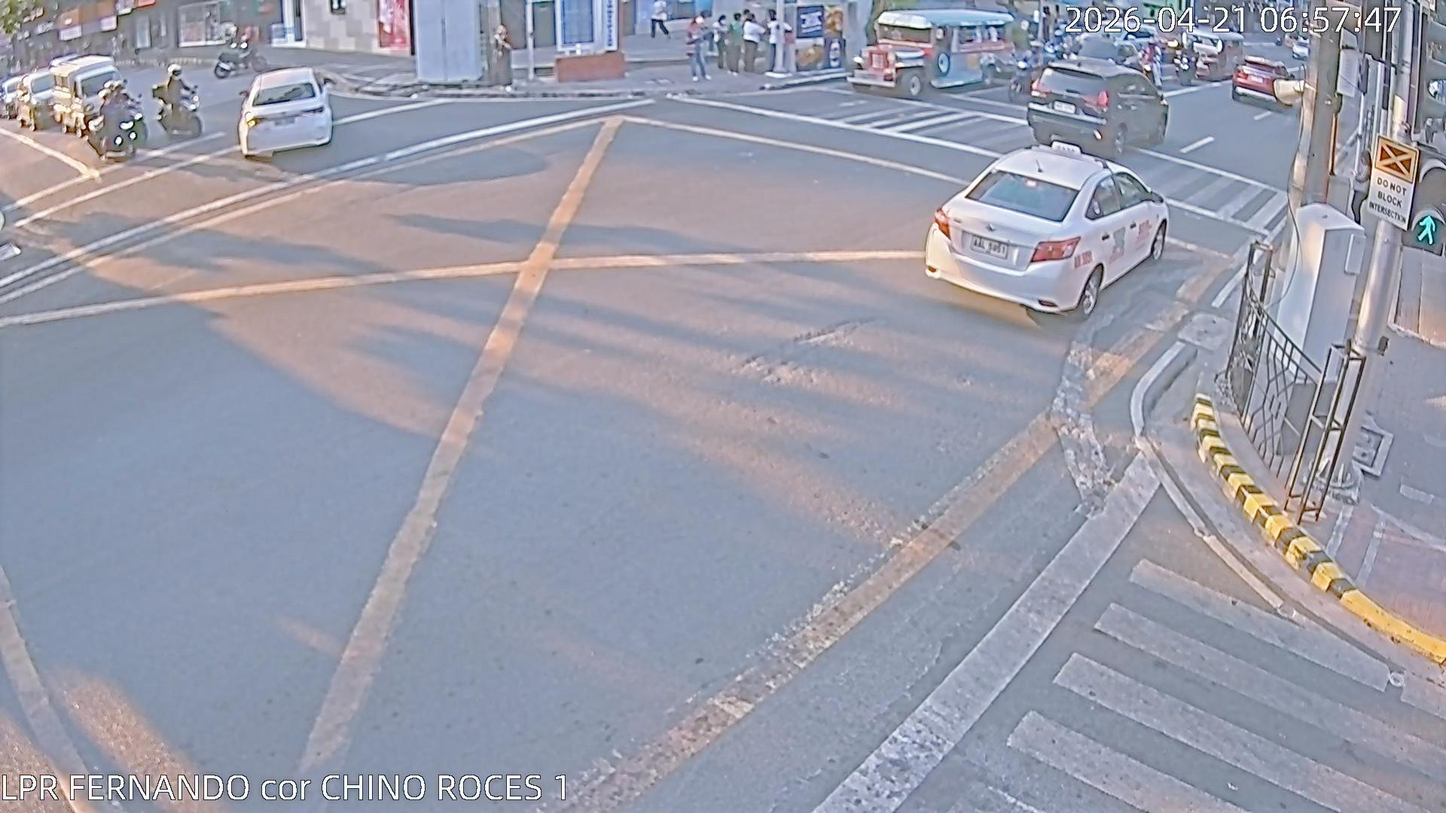Car: (928, 117, 1165, 337), (1029, 55, 1179, 176), (235, 67, 348, 165), (50, 59, 140, 125), (1234, 52, 1289, 121), (12, 77, 69, 131), (0, 82, 29, 123)
Motor: (145, 56, 225, 145), (85, 84, 149, 176), (1007, 31, 1067, 107), (1168, 24, 1207, 94), (1127, 38, 1167, 97)
